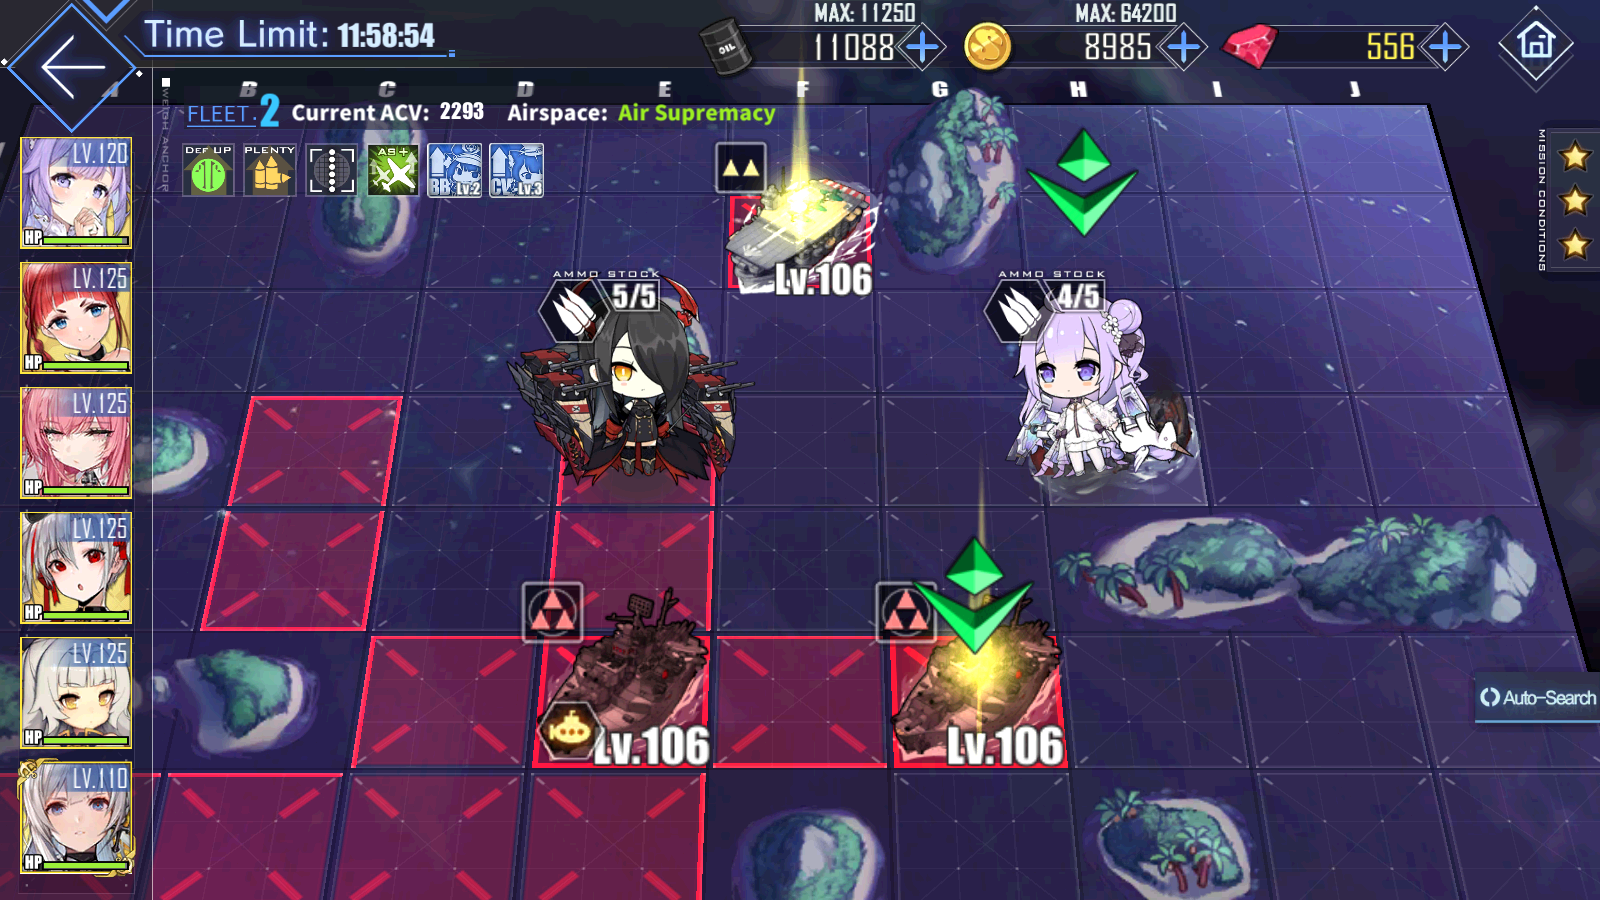ally: (509, 268, 735, 484), (980, 267, 1184, 482)
enemy: (874, 581, 1067, 768), (522, 584, 707, 767), (714, 140, 873, 293)
